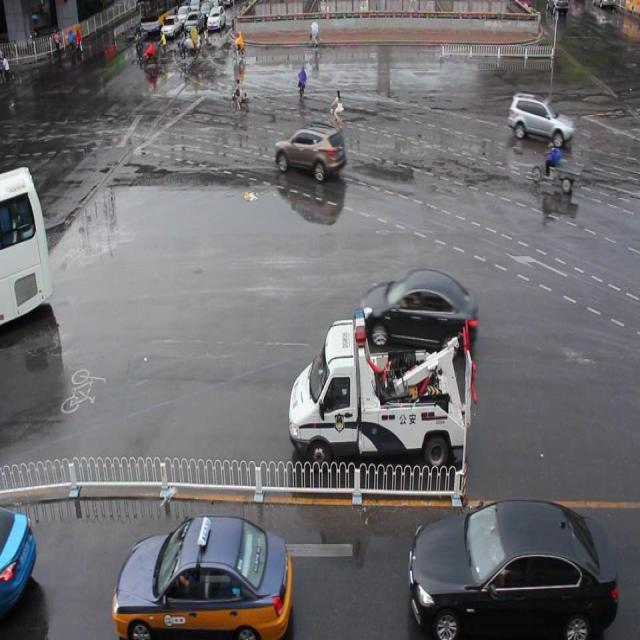bus: (288, 307, 474, 476)
car: (408, 498, 616, 640), (112, 509, 292, 640), (360, 265, 477, 360), (273, 122, 346, 183), (1, 503, 38, 621), (507, 90, 574, 149)
van: (1, 160, 53, 337)
